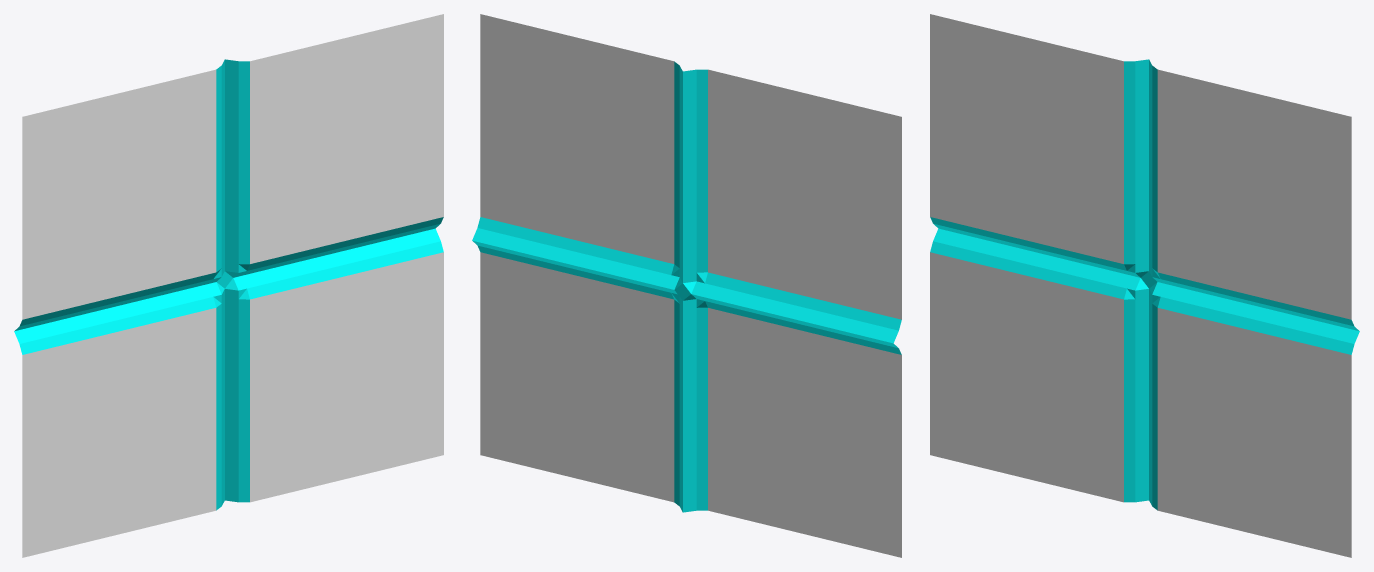
Rendered from Wall01.obj.
The picture shows the model from 3 angles, left to right: view 1: azimuth 30°, elevation 25°; view 2: azimuth 150°, elevation 25°; view 3: azimuth 330°, elevation 25°; orthographic projection.
Bounding box in the file's own units: 2 × 2 × 0.0679.
Materials: 2 (1 with a texture image).
